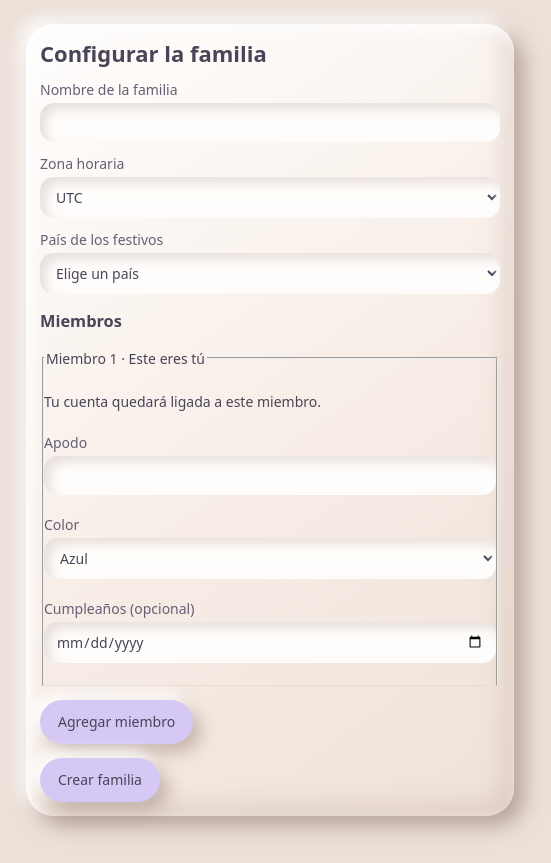
Scenario: Setup marca al primer miembro como quien crea la familia, también tras quitar
Expected: the element "Miembro 1 · Este eres tú" is shown, [42,349,498,686]
Expected: the text with test id "member-you" shows "Tu cuenta quedará ligada", [44,392,321,411]
Click the button "Agregar miembro".
click(117, 722)  # box [40,700,193,744]
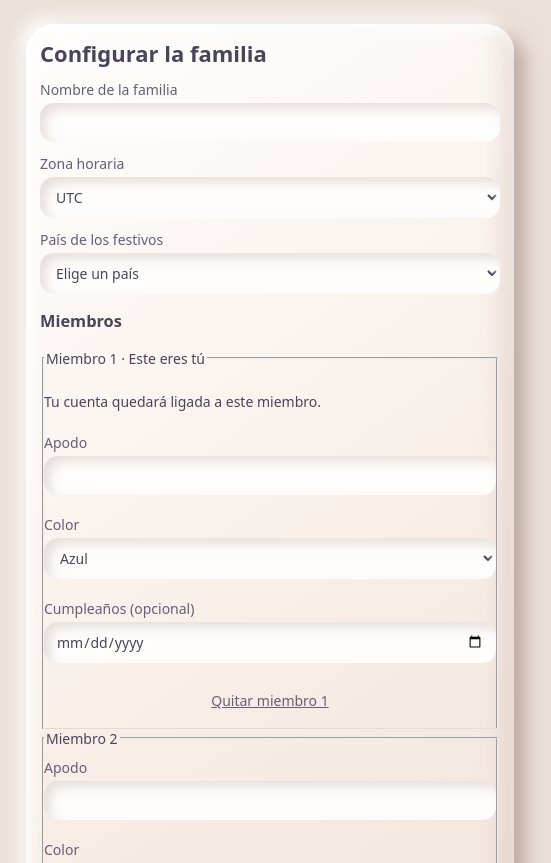
Type "Ana" into the field labelled "Apodo" below "Tu cuenta quedará ligada a este miembro.".
click(270, 475); type("Ana")  # box [44,456,496,495]
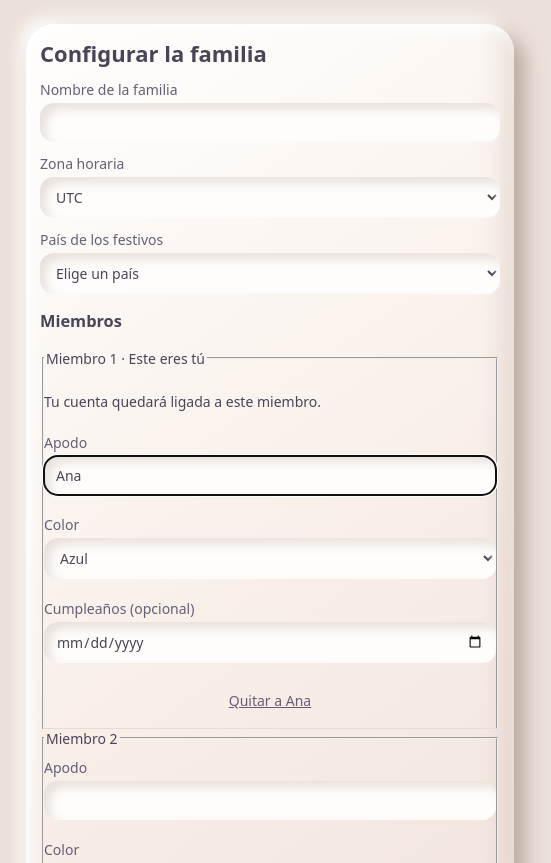
Type "Leo" into the 2nd field labelled "Apodo".
click(270, 800); type("Leo")  # box [44,781,496,820]
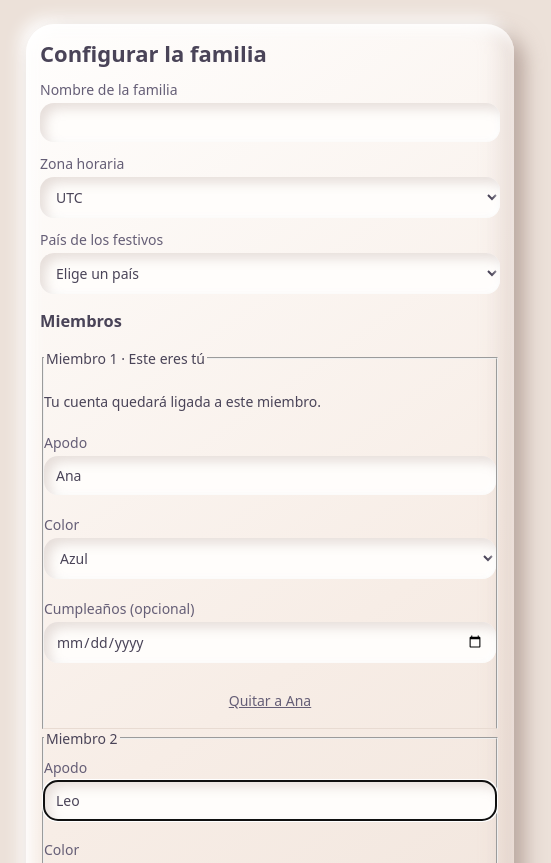
Click the button "Quitar a Ana".
click(270, 700)  # box [44,683,496,718]
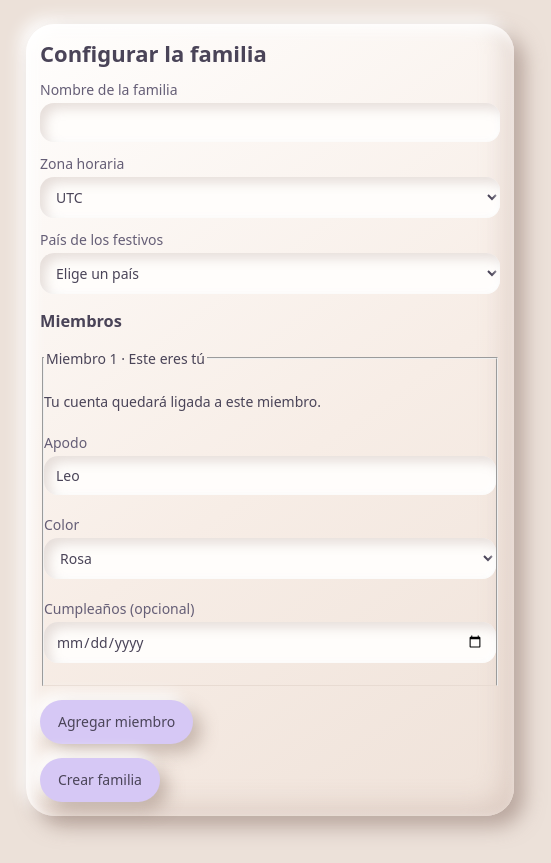
Expected: the number of elements with test id "member-you" is 1, [44,392,321,411]
Expected: the number of fields labelled "Apodo" is 1, [44,456,496,495]
Expected: the element "Miembro 1 · Este eres tú" is shown, [42,349,498,686]
